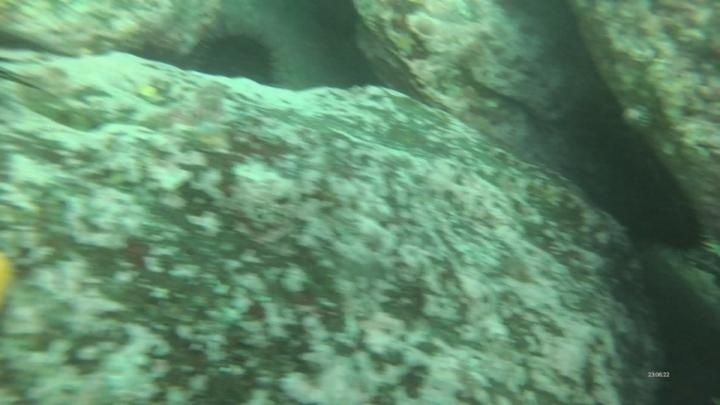echinus: (193, 25, 282, 88), (641, 196, 710, 255)
